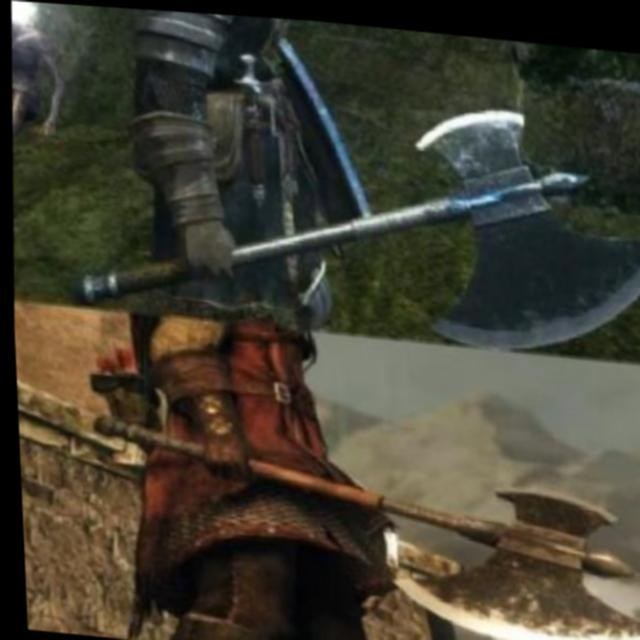weapon: (58, 58, 640, 364), (82, 394, 640, 640)
